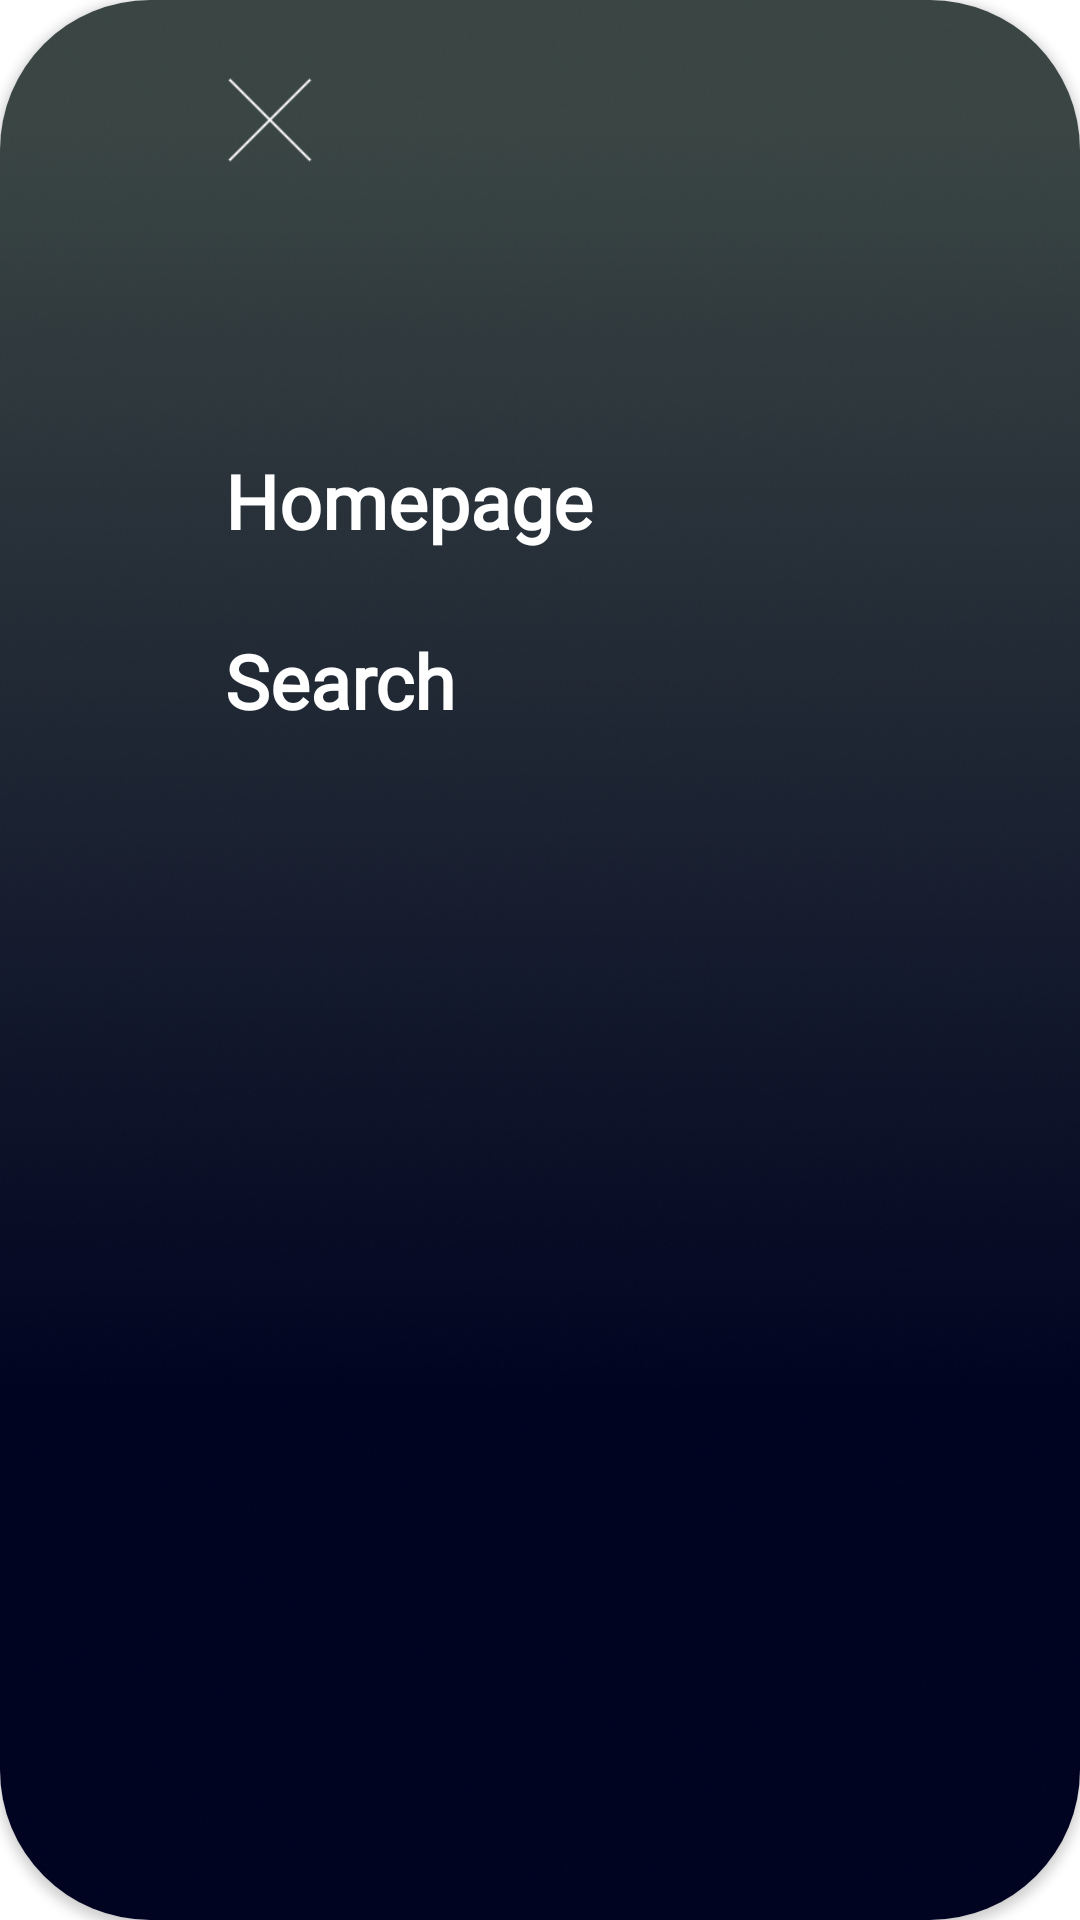

Where icons sit on this 1080px x 1920px app screen, as bbox=(x1, y1, x2, y2):
cross: bbox=(228, 78, 312, 162)
